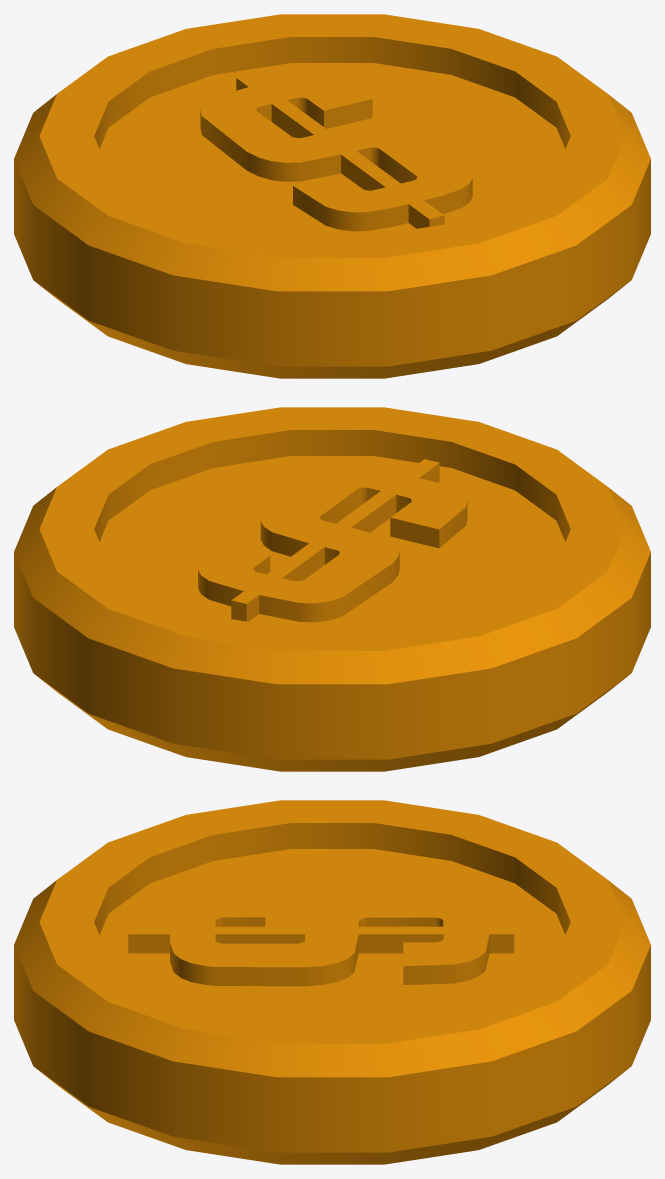
File: coin_new.glb
The picture shows the model from 3 angles, top to bottom: view 1: azimuth 30°, elevation 25°; view 2: azimuth 150°, elevation 25°; view 3: azimuth 270°, elevation 25°; orthographic projection.
Parts seen in each view (by area): view 1: Coin_new; view 2: Coin_new; view 3: Coin_new.
Boxes of the visible parts, x1,y1,x2,y2 form: Coin_new: (14, 14, 650, 378); Coin_new: (14, 407, 650, 771); Coin_new: (14, 800, 650, 1164).
Bounding box in the file's own units: 1.97 × 0.418 × 2.
